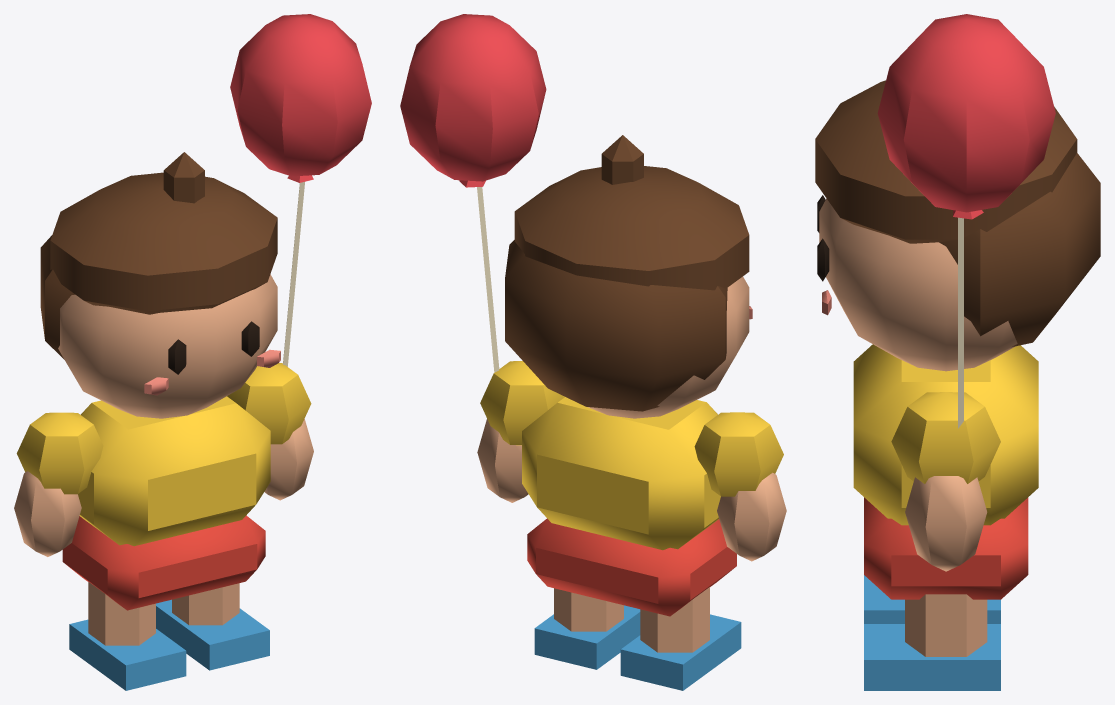
Rendered from guest_02.glb.
The picture shows the model from 3 angles, left to right: view 1: azimuth 30°, elevation 25°; view 2: azimuth 150°, elevation 25°; view 3: azimuth 270°, elevation 25°; orthographic projection. The views are drawn at different scales.
Parts seen in each view (by area): view 1: guest_02; view 2: guest_02; view 3: guest_02.
Boxes of the visible parts, left/top/right/bottom form: guest_02: left=14, top=14, right=371, bottom=690; guest_02: left=400, top=14, right=786, bottom=690; guest_02: left=815, top=14, right=1100, bottom=690.
Bounding box in the file's own units: 0.3226 × 0.5173 × 0.1874.
